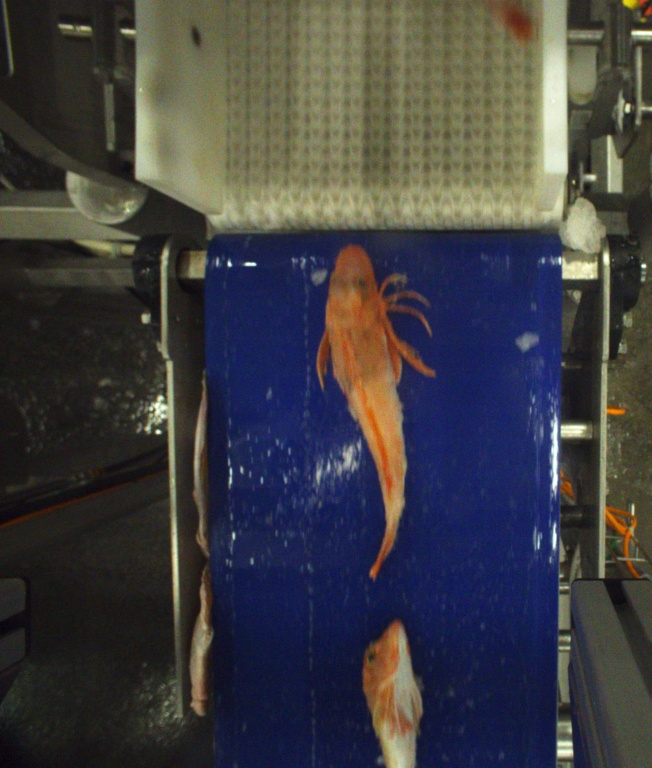GUU: (312, 239, 439, 576)
